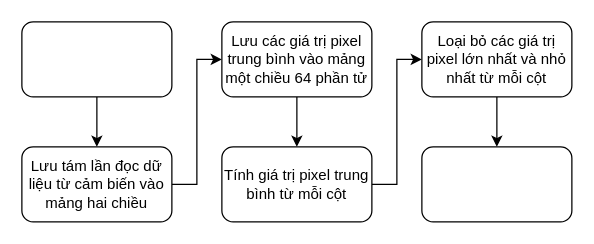
The diagram is 594 pixels wide and 244 high, and some of its shapes have lost their labels. Here are the shapes that lost their labels. From the top down, the box of each, then its label:
(21, 21, 172, 97): Tạo mảng hai chiều có 8 hàng 64 cột
(421, 146, 572, 222): Lấy kết quả gửi lên PC
